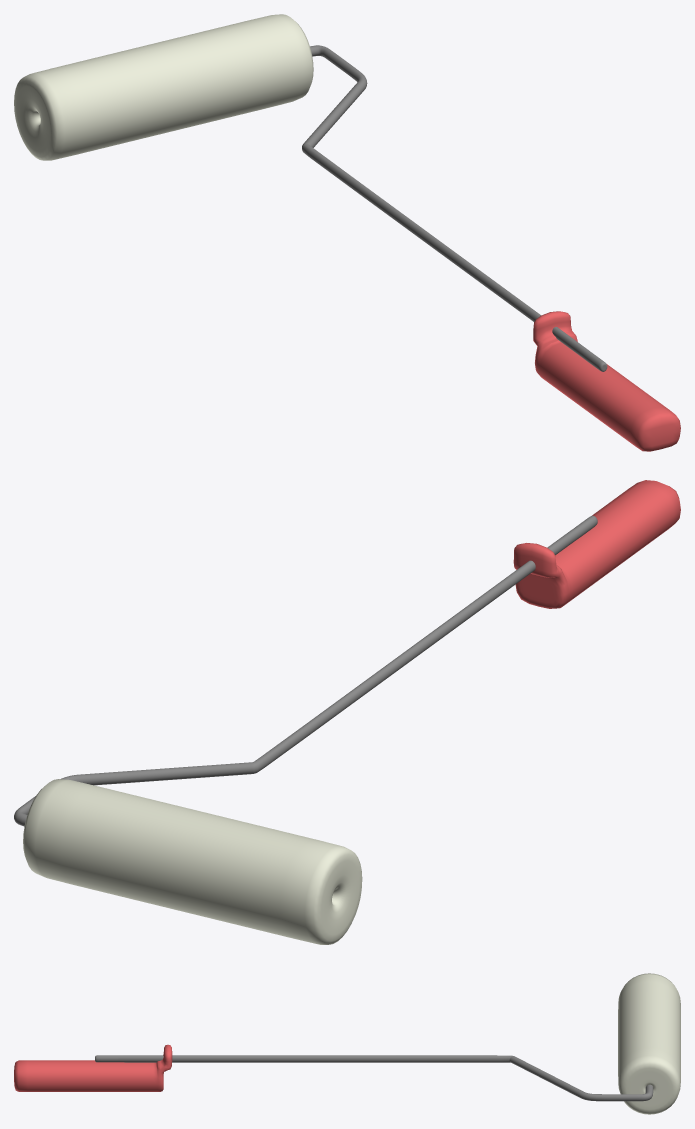
The model's file is paint roller.fbx.
The picture shows the model from 3 angles, top to bottom: view 1: azimuth 30°, elevation 25°; view 2: azimuth 150°, elevation 25°; view 3: azimuth 270°, elevation 25°; orthographic projection. The views are drawn at different scales.
Visible parts, largest first — view 1: Roller, Paint Roller, Handle 1; view 2: Roller, Paint Roller, Handle 1; view 3: Roller, Paint Roller, Handle 1.
Boxes of the visible parts, <box> form: Roller: <box>14,14,313,160</box>; Paint Roller: <box>533,311,680,451</box>; Handle 1: <box>302,45,607,371</box>; Roller: <box>23,779,362,944</box>; Paint Roller: <box>513,480,680,608</box>; Handle 1: <box>14,515,597,826</box>; Roller: <box>618,973,680,1114</box>; Paint Roller: <box>14,1044,172,1091</box>; Handle 1: <box>95,1055,653,1101</box>.
Bounding box in the file's own units: 27.66 × 7.52 × 78.58.
